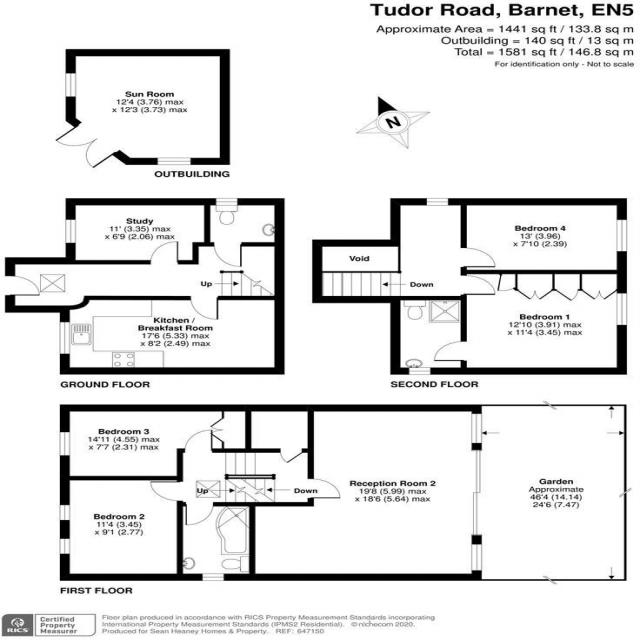DOOR: (304, 477, 343, 500), (458, 246, 497, 269), (183, 500, 216, 527), (458, 274, 498, 296), (431, 339, 469, 362), (212, 241, 244, 268), (188, 295, 221, 321), (3, 274, 42, 296), (148, 240, 180, 266), (183, 428, 214, 454), (148, 480, 184, 502), (278, 447, 304, 466)
ROOM: (249, 403, 485, 582), (431, 269, 629, 376), (59, 295, 285, 375), (59, 475, 184, 581), (460, 197, 628, 275), (58, 403, 225, 481), (63, 197, 211, 265)
WINDOW: (468, 411, 486, 445), (614, 218, 629, 253), (613, 292, 628, 327), (469, 541, 484, 574), (58, 320, 72, 355), (57, 431, 72, 457), (64, 218, 78, 244), (199, 572, 226, 582), (215, 197, 240, 207), (407, 366, 432, 376), (425, 197, 449, 207), (58, 504, 71, 522), (58, 538, 71, 556)
